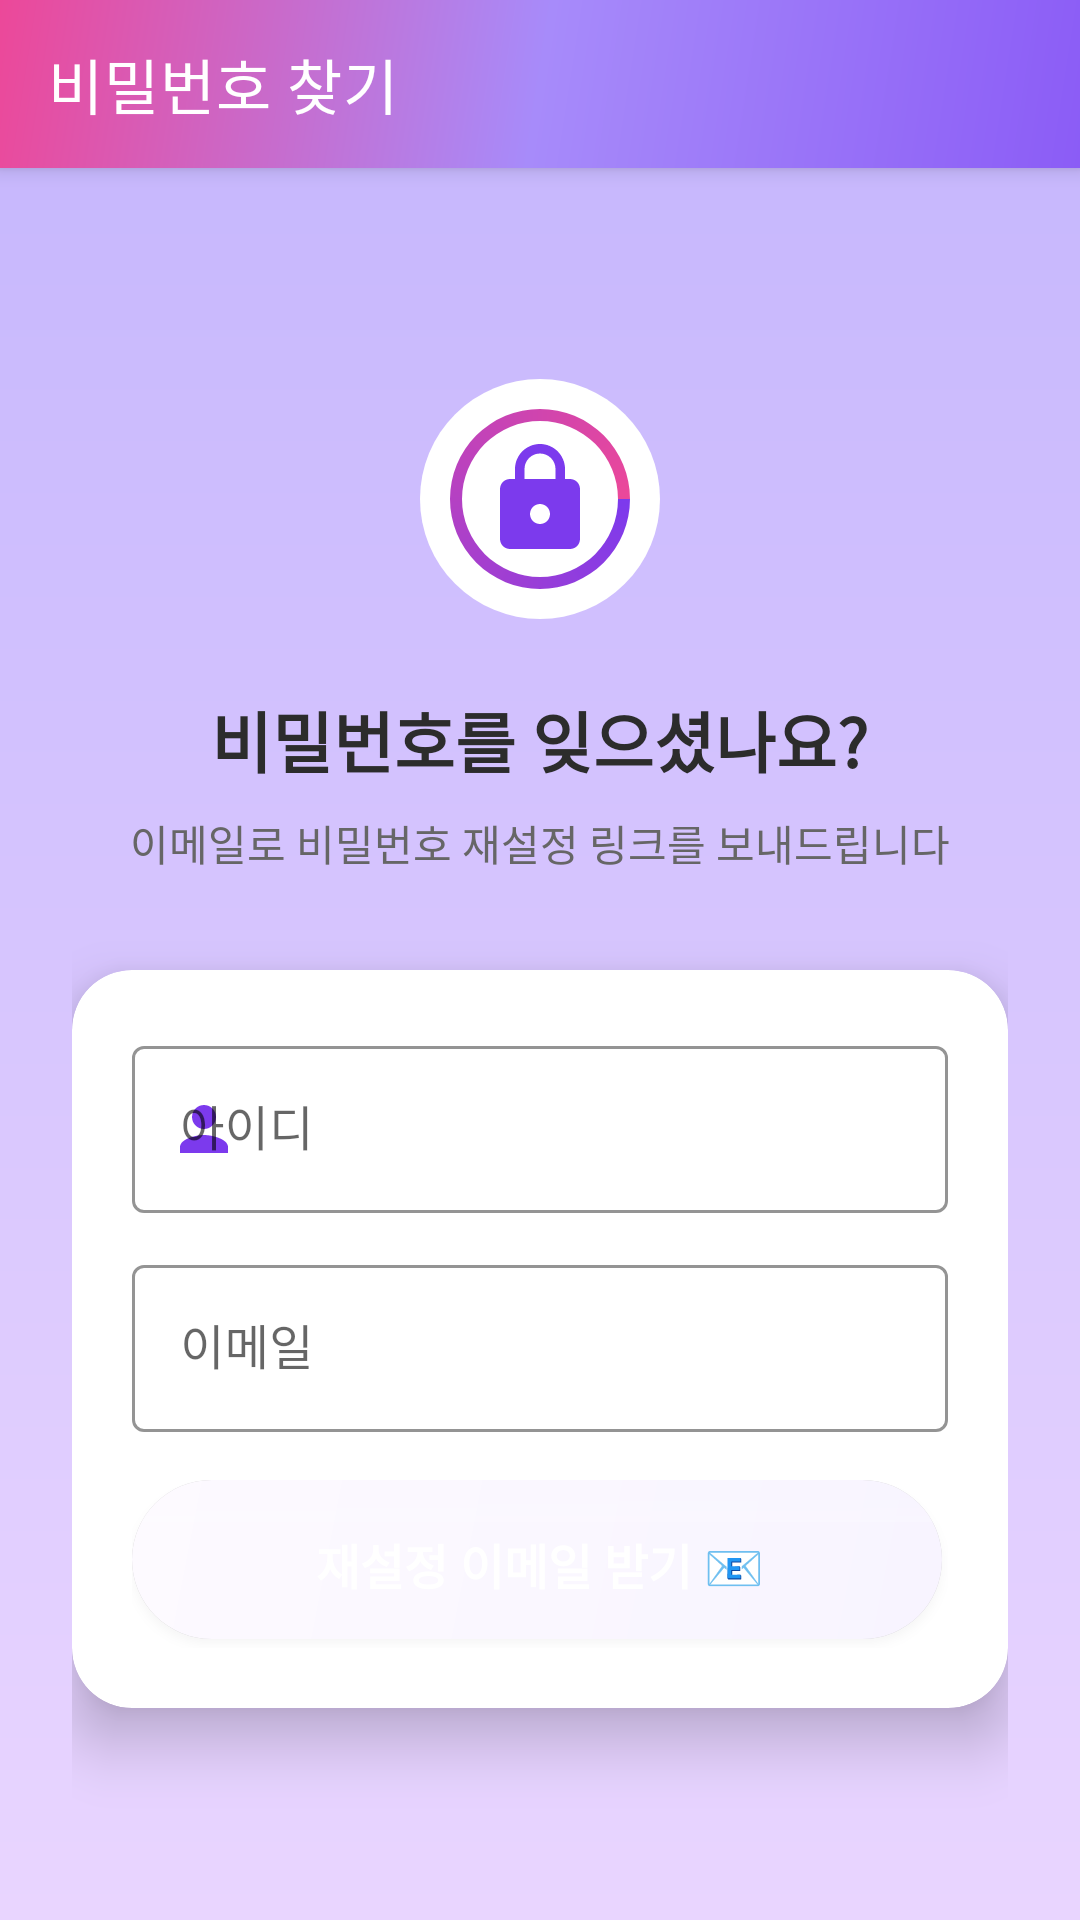

Icon bounding boxes for this 1080×1920 phone screenshot, format (x1, y1, x2, y2):
lock: (420, 379, 660, 619)
